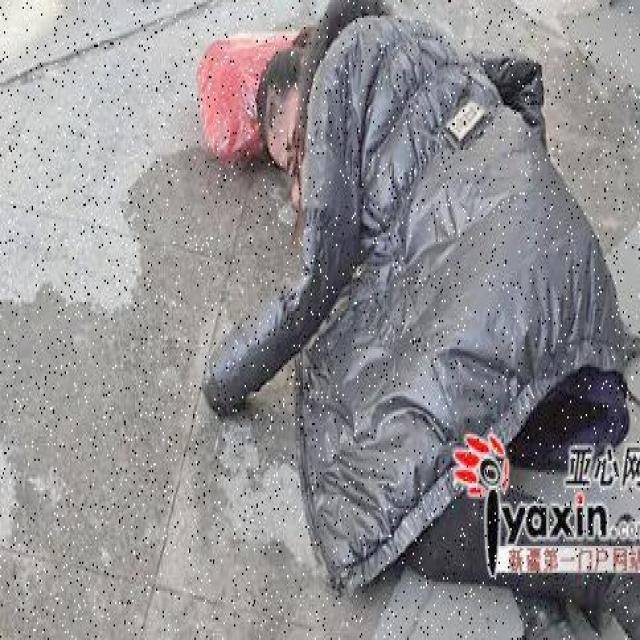fall: (259, 49, 639, 620)
